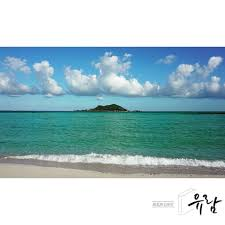beach: (3, 111, 225, 176)
sky: (1, 48, 223, 104)
